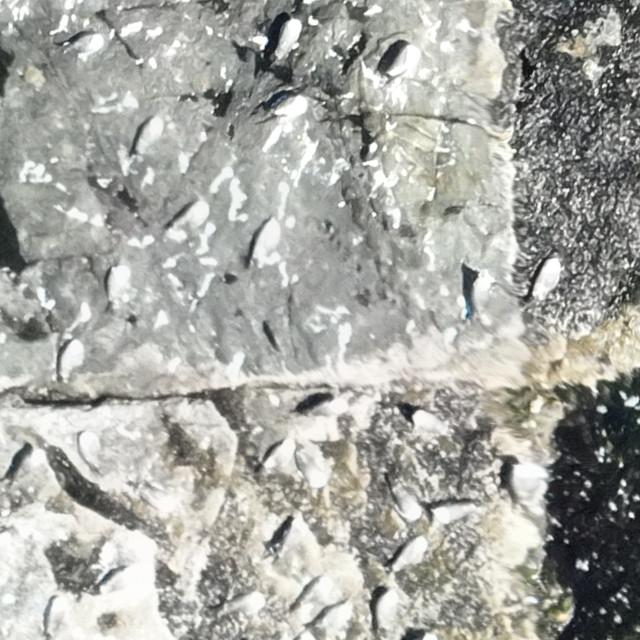umineko: (287, 577, 331, 615), (250, 218, 283, 264), (2, 452, 46, 486), (390, 476, 421, 521), (382, 46, 420, 82), (300, 446, 330, 488), (466, 278, 494, 320), (276, 18, 304, 58), (226, 591, 266, 617), (134, 118, 164, 152), (414, 408, 448, 438), (393, 538, 428, 567), (174, 197, 206, 228), (107, 265, 128, 311), (268, 438, 296, 469), (60, 340, 81, 381), (436, 504, 483, 522), (78, 432, 99, 472), (538, 258, 561, 294), (372, 591, 397, 624), (271, 95, 306, 118), (302, 399, 351, 414)
